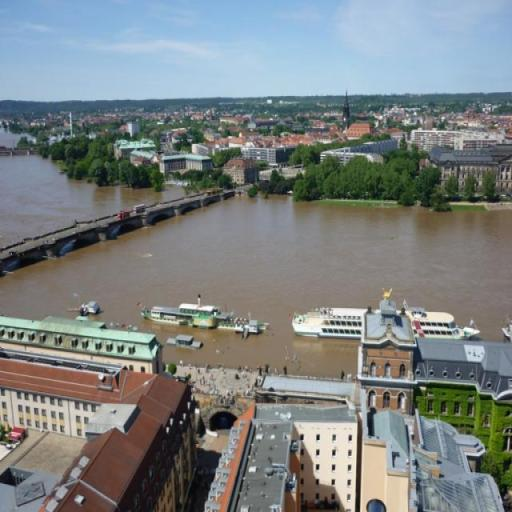flood: (0, 196, 512, 376), (0, 155, 184, 246)
house: (36, 375, 206, 512), (349, 406, 512, 511), (214, 401, 356, 512), (0, 318, 165, 372), (0, 357, 91, 441), (0, 428, 86, 510), (410, 333, 491, 383), (435, 148, 500, 198), (161, 153, 212, 175), (319, 149, 384, 164), (114, 138, 156, 160), (224, 160, 258, 186), (411, 130, 453, 147), (243, 146, 280, 164), (460, 137, 498, 148), (130, 150, 155, 165), (346, 122, 372, 136)
